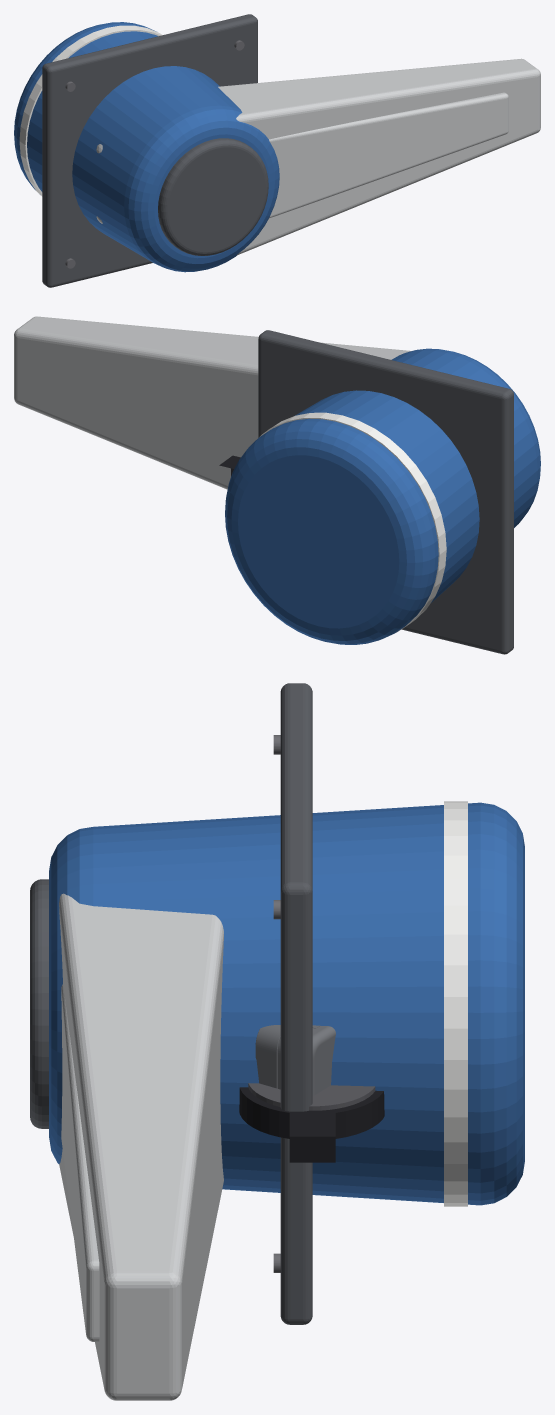
File: arm.glb
3 renders of one model, top to bottom at view 1: azimuth 30°, elevation 25°; view 2: azimuth 150°, elevation 25°; view 3: azimuth 270°, elevation 25°, orthographic. The views are drawn at different scales.
Parts seen in each view (by area): view 1: b3, b1, b4; view 2: b3, b1; view 3: b3, b1, b5, b4, b7.
Boxes of the visible parts, box(x1,y1,x2,y2) form: b3: box(14, 22, 540, 272); b1: box(42, 14, 257, 287); b4: box(269, 92, 508, 218); b3: box(14, 316, 540, 644); b1: box(258, 330, 513, 654); b3: box(30, 801, 524, 1400); b1: box(273, 683, 312, 1324); b5: box(239, 1083, 384, 1162); b4: box(61, 984, 99, 1341); b7: box(255, 1025, 335, 1095).
Size of the model in its own units: 0.3614 by 0.1693 by 0.1719.
